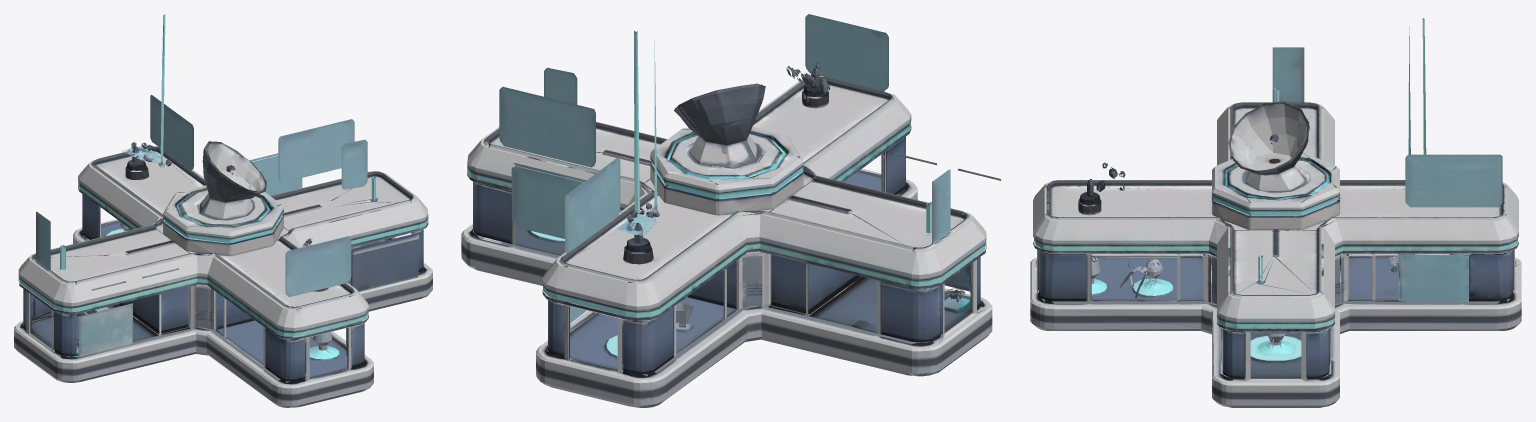
File: tech_center_LOD1.glb
3 views of the same model, side by side, from view 1: azimuth 30°, elevation 25°; view 2: azimuth 150°, elevation 25°; view 3: azimuth 270°, elevation 25° (orthographic). The views are drawn at different scales.
Parts seen in each view (by area): view 1: tech_center_LOD1; view 2: tech_center_LOD1; view 3: tech_center_LOD1.
Boxes of the visible parts, x1,y1,x2,y2 form: tech_center_LOD1: (14, 14, 432, 407); tech_center_LOD1: (461, 14, 1001, 407); tech_center_LOD1: (1030, 18, 1521, 407).
Bounding box in the file's own units: 1 × 0.6516 × 1.
Materials: 1 (1 with a texture image).
